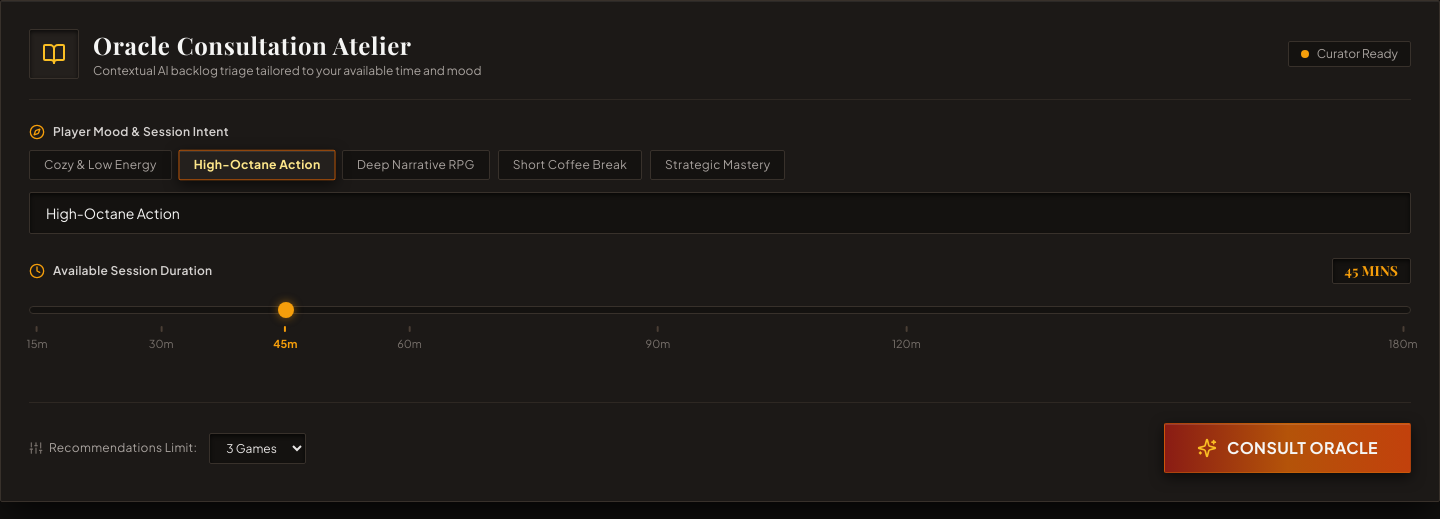
Test: Oracle Components › OraclePanel › updates available minutes duration display on slider change
Set the slider labelled "Available Session Duration" to "90" at (658, 310), box x1=29 y1=306 x2=1411 y2=314
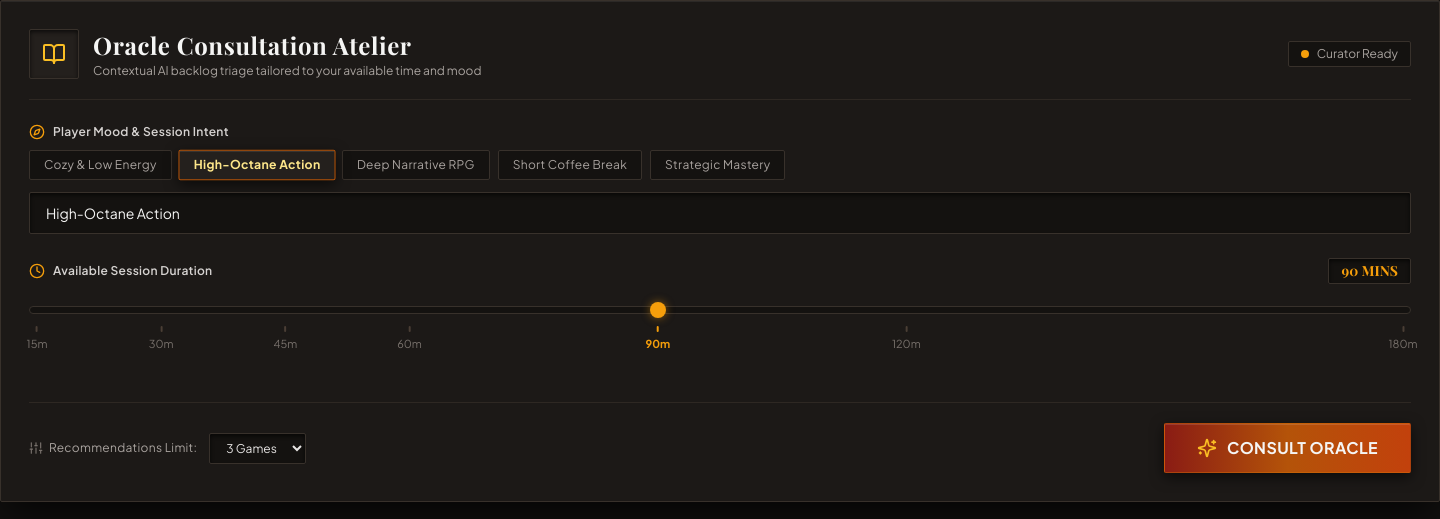
Now the text with test id "duration-display" reads "90 MINS", box x1=1328 y1=258 x2=1411 y2=284
